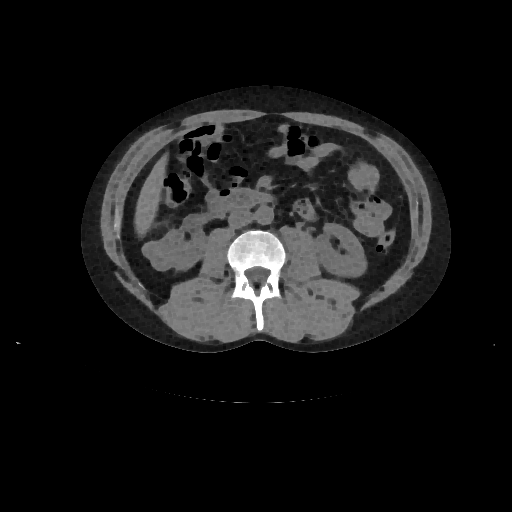Lesion: (137, 239, 165, 261)
